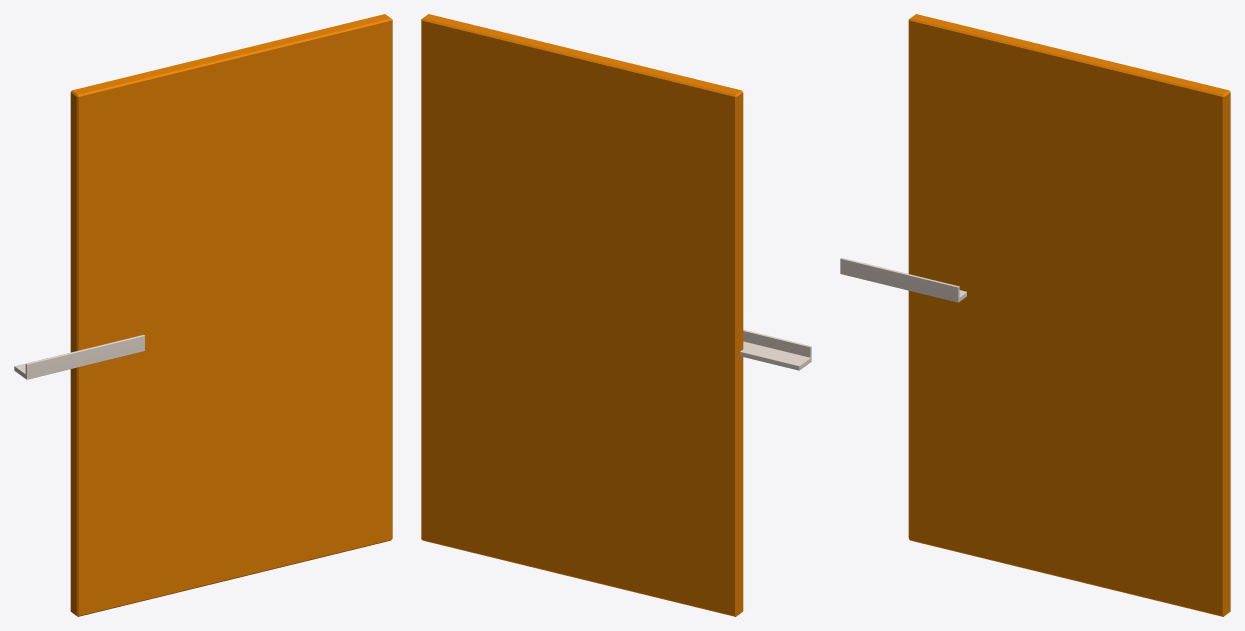
Rendered from Cabinet_f810e87c.obj.
3 renders of one model, left to right at view 1: azimuth 30°, elevation 25°; view 2: azimuth 150°, elevation 25°; view 3: azimuth 330°, elevation 25°, orthographic.
Parts seen in each view (by area): view 1: Mesh_2f2afbd4, handle_3_178mm_01_0b0183ed; view 2: Mesh_2f2afbd4, handle_3_178mm_01_0b0183ed; view 3: Mesh_2f2afbd4, handle_3_178mm_01_0b0183ed.
Boxes of the visible parts, left/top/right/bottom form: Mesh_2f2afbd4: left=70, top=14, right=392, bottom=616; handle_3_178mm_01_0b0183ed: left=14, top=334, right=144, bottom=379; Mesh_2f2afbd4: left=421, top=14, right=743, bottom=616; handle_3_178mm_01_0b0183ed: left=740, top=329, right=811, bottom=370; Mesh_2f2afbd4: left=908, top=14, right=1230, bottom=616; handle_3_178mm_01_0b0183ed: left=840, top=257, right=966, bottom=302.
Bounding box in the file's own units: 0.564 × 0.75 × 0.0426.
